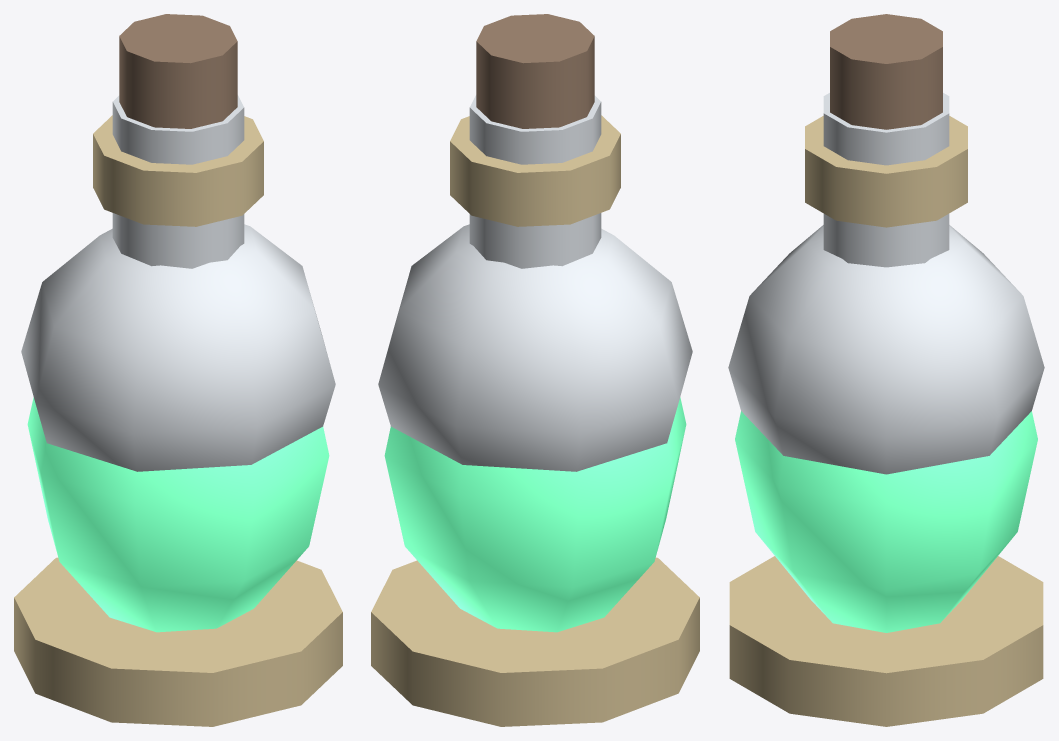
The model's file is vigor-vial.glb.
3 renders of one model, left to right at view 1: azimuth 30°, elevation 25°; view 2: azimuth 150°, elevation 25°; view 3: azimuth 270°, elevation 25°, orthographic.
Visible parts, largest first — view 1: GlassShoulder, BottleBody, BottleBase, CorkStopper, NeckRing, BottleNeck; view 2: GlassShoulder, BottleBody, BottleBase, CorkStopper, NeckRing, BottleNeck; view 3: GlassShoulder, BottleBody, BottleBase, CorkStopper, NeckRing, BottleNeck.
Part boxes in pixels (x1,y1,x2,y2): GlassShoulder: (21, 224, 335, 471); BottleBody: (27, 397, 329, 632); BottleBase: (14, 557, 342, 726); CorkStopper: (119, 14, 237, 128); NeckRing: (93, 115, 263, 226); BottleNeck: (112, 95, 244, 268); GlassShoulder: (378, 224, 692, 471); BottleBody: (384, 397, 686, 632); BottleBase: (371, 557, 699, 726); CorkStopper: (476, 14, 594, 128); NeckRing: (450, 115, 620, 226); BottleNeck: (469, 95, 601, 268); GlassShoulder: (728, 225, 1044, 474); BottleBody: (735, 411, 1037, 632); BottleBase: (729, 556, 1043, 726); CorkStopper: (830, 14, 942, 129); NeckRing: (805, 116, 967, 227); BottleNeck: (823, 93, 949, 267).
Bounding box in the file's own units: 0.25 × 0.5175 × 0.24.
